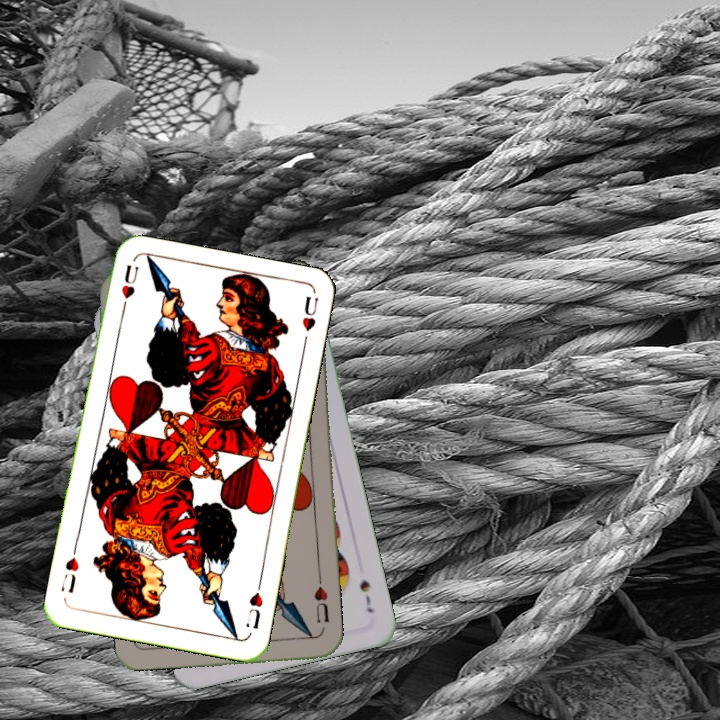HU: (117, 260, 141, 317), (244, 578, 266, 632), (310, 575, 332, 625)
S7: (355, 575, 377, 616)
